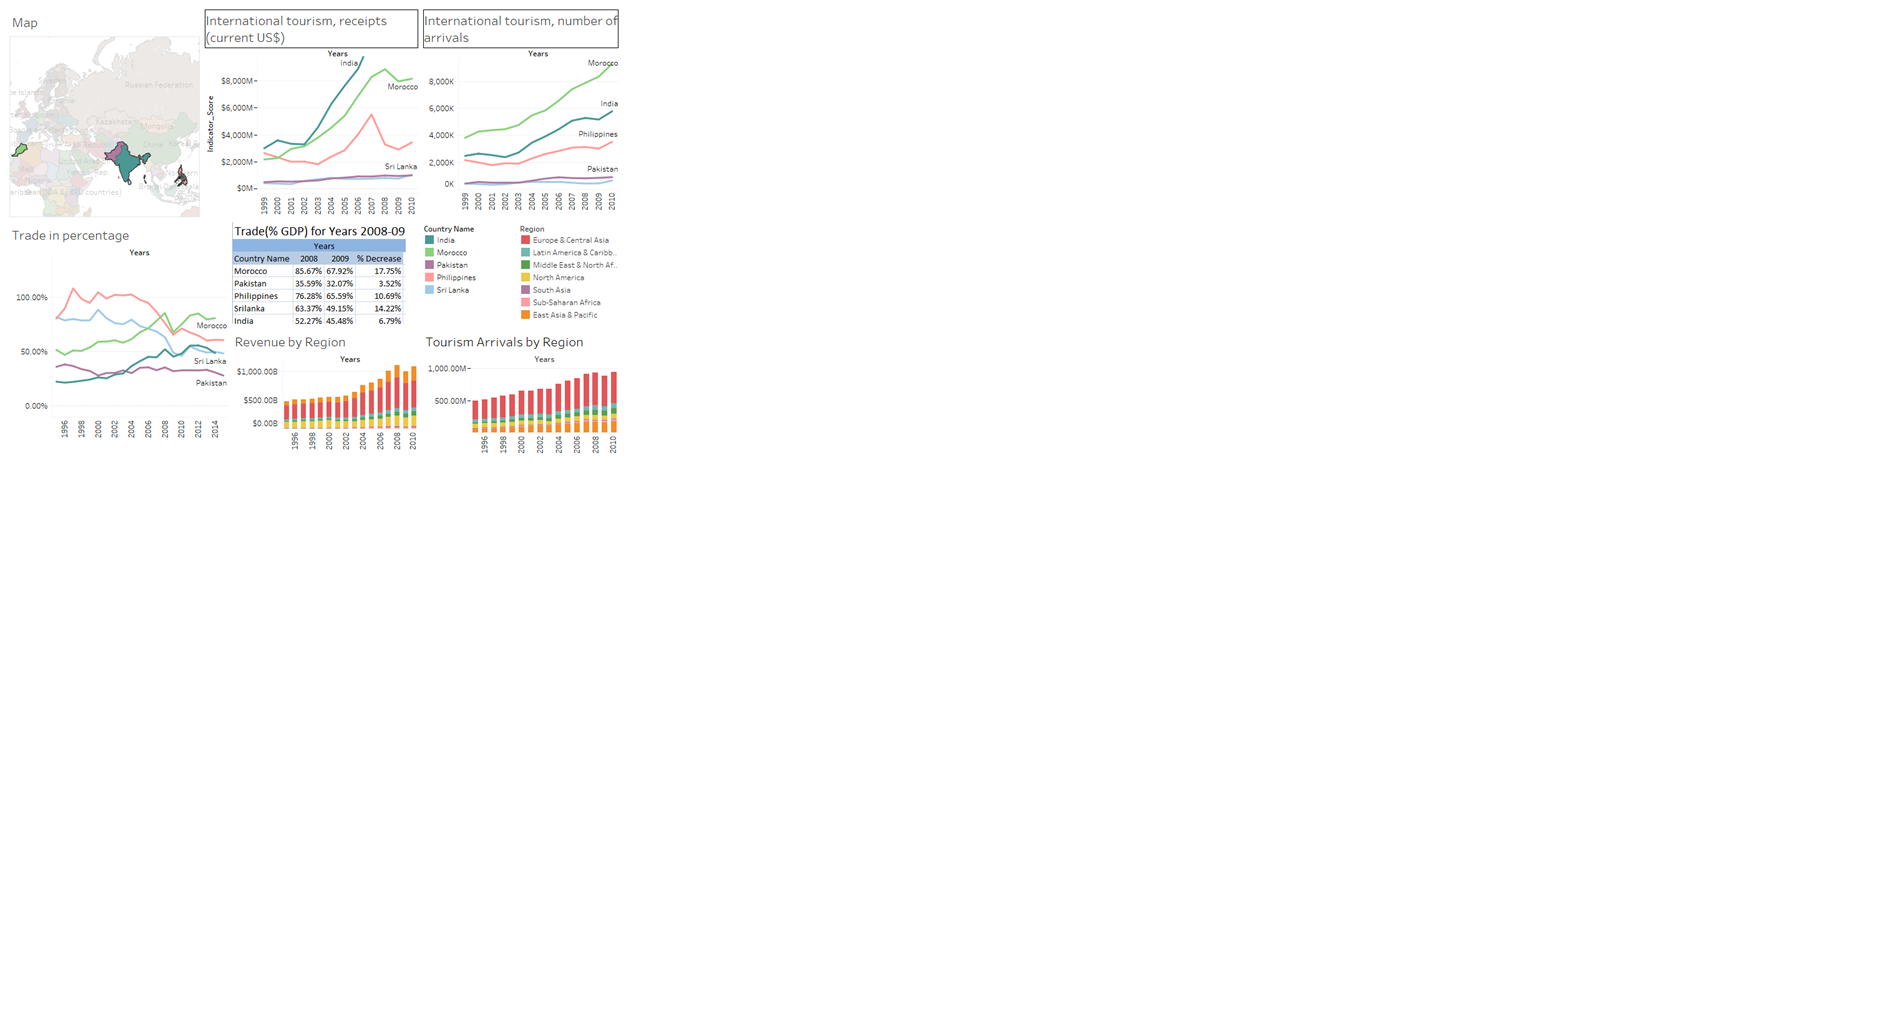

What the dashboard file says about the page in this screenshot:
{"tool":"tableau","page":{"name":"International tourism and Economic Growth Dashboard ","canvas":[1000,800],"ordinal":0},"visuals":[{"type":"worksheet","title":"Map","mark":"Multipolygon","box":[8,8,313,341]},{"type":"worksheet","title":"International tourism, receipts (current US$)","mark":"Line","rows":["Pivot Field Values"],"cols":["Pivot Field Names"],"box":[321,8,350,341]},{"type":"worksheet","title":"International tourism, number of arrivals","mark":"Line","rows":["Pivot Field Values"],"cols":["Pivot Field Names"],"box":[671,8,321,341]},{"type":"worksheet","title":"Trade in percentage","mark":"Line","rows":["Pivot Field Values"],"cols":["Pivot Field Names"],"box":[8,349,357,371]},{"type":"image","param":"C:/Users/Shehzad/Desktop/pods assignment/pictures of report/% trade.png","box":[365,349,306,171]},{"type":"legend","title":"International tourism, receipts (current US$)","param":"[federated.1l7wrt60pq6w1b1h5hhap19ji4xf].[none:Country Name:nk]","box":[671,349,154,171]},{"type":"legend","title":"Tourism Arrivals by Region","param":"[federated.1l7wrt60pq6w1b1h5hhap19ji4xf].[none:Region:nk]","box":[825,349,167,171]},{"type":"worksheet","title":"Revenue by Region","mark":"Automatic","rows":["Pivot Field Values"],"cols":["Pivot Field Names"],"box":[365,520,306,272]},{"type":"worksheet","title":"Tourism Arrivals by Region","mark":"Automatic","rows":["Pivot Field Values"],"cols":["Pivot Field Names"],"box":[671,520,321,272]}]}

Visuals, with their boxes on the page's 1000x800 design canvas (x1, y1, x2, y2). These are canvas units, not pixel positions in the 1900x1032 screenshot, which may show the page scaled, cropped or inside an application window:
"Map" worksheet (Multipolygon marks): detection(8, 8, 321, 349)
"International tourism, receipts (current US$)" worksheet (Line marks): detection(321, 8, 671, 349)
"International tourism, number of arrivals" worksheet (Line marks): detection(671, 8, 992, 349)
"Trade in percentage" worksheet (Line marks): detection(8, 349, 365, 720)
image: detection(365, 349, 671, 520)
"International tourism, receipts (current US$)" legend: detection(671, 349, 825, 520)
"Tourism Arrivals by Region" legend: detection(825, 349, 992, 520)
"Revenue by Region" worksheet: detection(365, 520, 671, 792)
"Tourism Arrivals by Region" worksheet: detection(671, 520, 992, 792)
